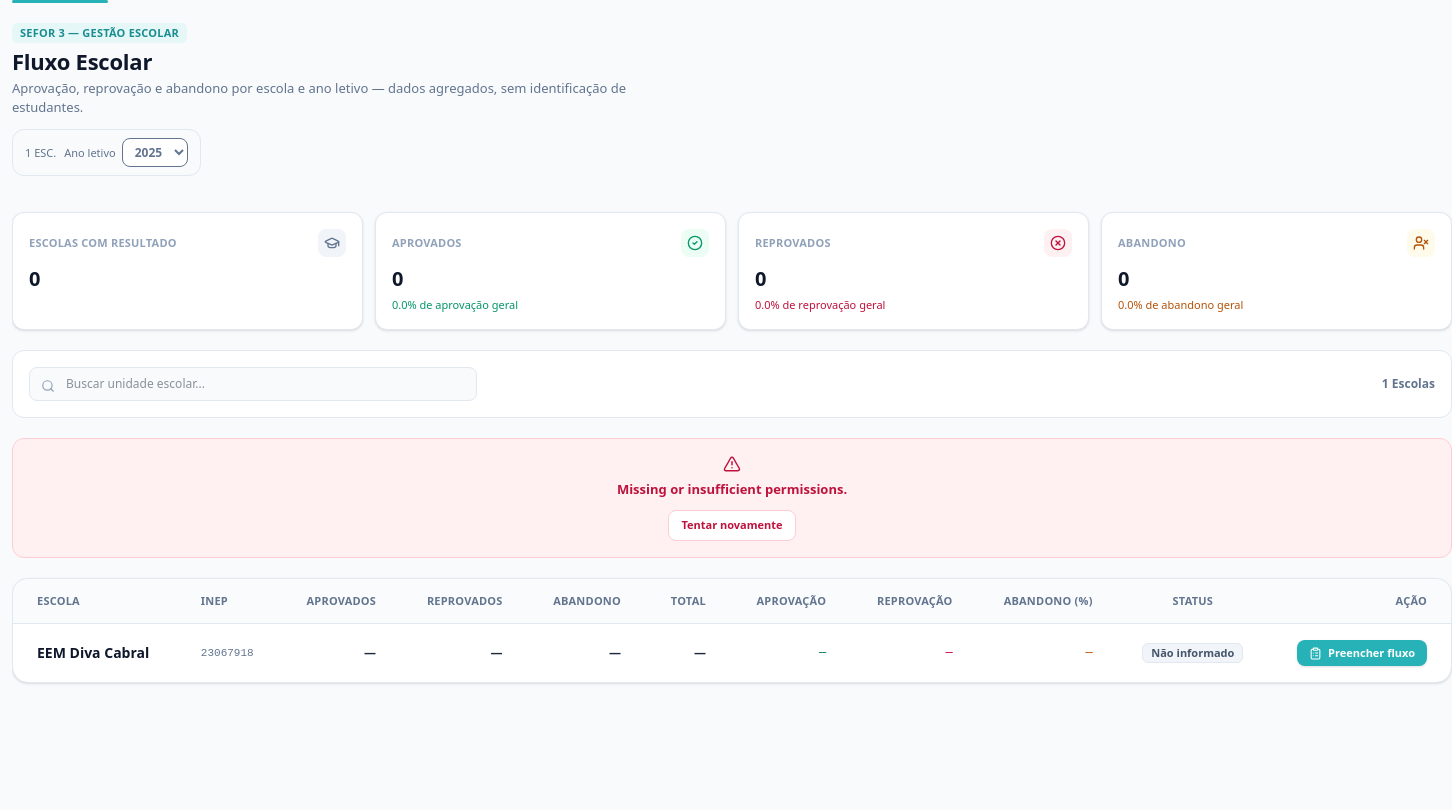
Test case: FluxoView › erro real de carregamento permanece visível, com "Tentar novamente"
The image size is (1452, 810).
Expected: the text "Missing or insufficient permissions." is shown, [617,480,847,498]
Click the button "Tentar novamente".
click(732, 525)  # box [668,510,796,541]
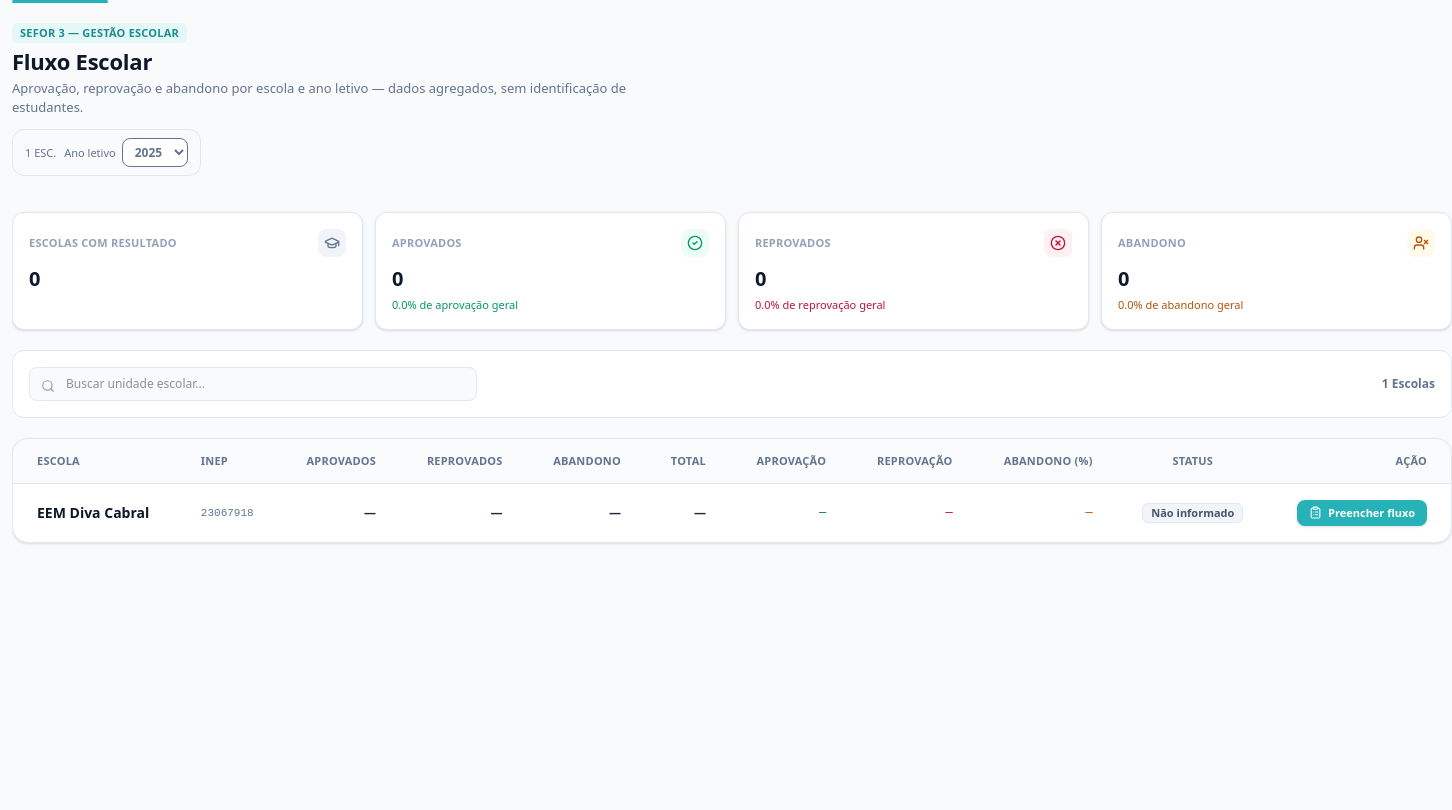
Expected: the text "Missing or insufficient permissions." is gone
